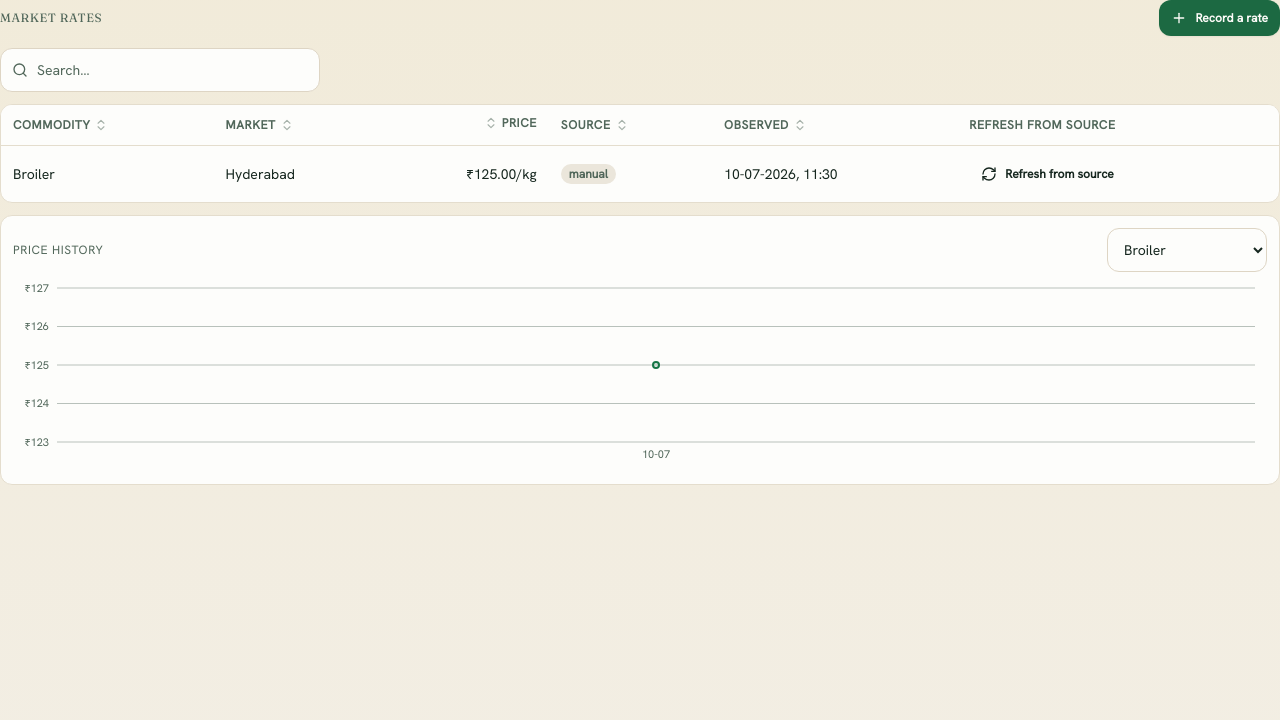
Scenario: MarketPanel › records a manual rate and toasts the price-drop risk from the response
Click the button "Record a rate".
click(1220, 18)  # box [1159,0,1279,36]
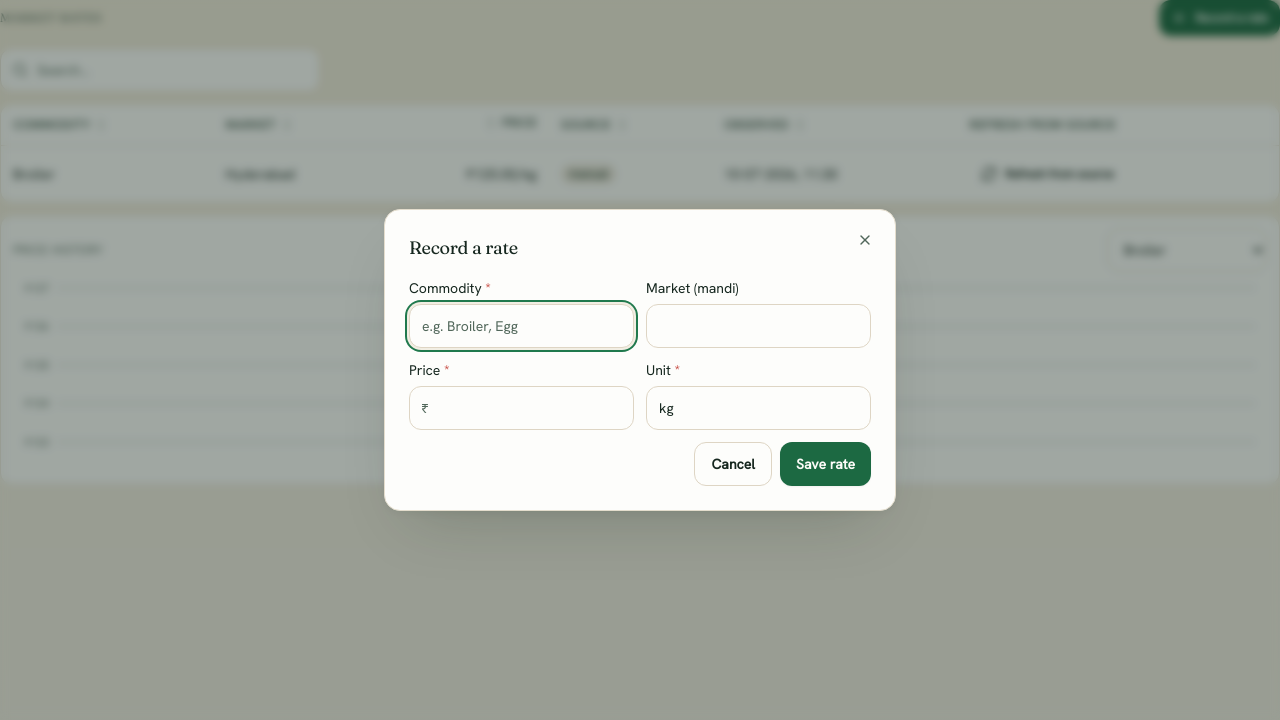
Type "Broiler" into the field labelled "Commodity *".
click(522, 326); type("Broiler")  # box [409,304,634,348]
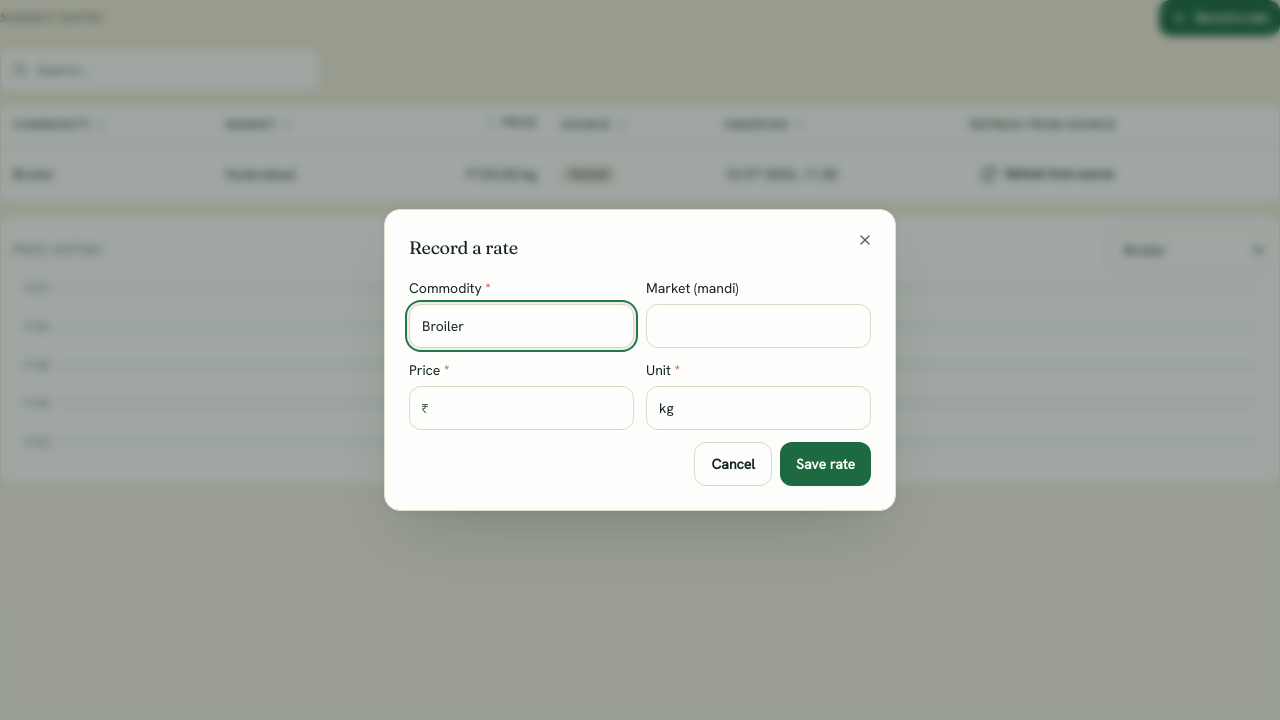
Type "80" into the field labelled "Price *".
click(522, 408); type("80")  # box [409,386,634,430]
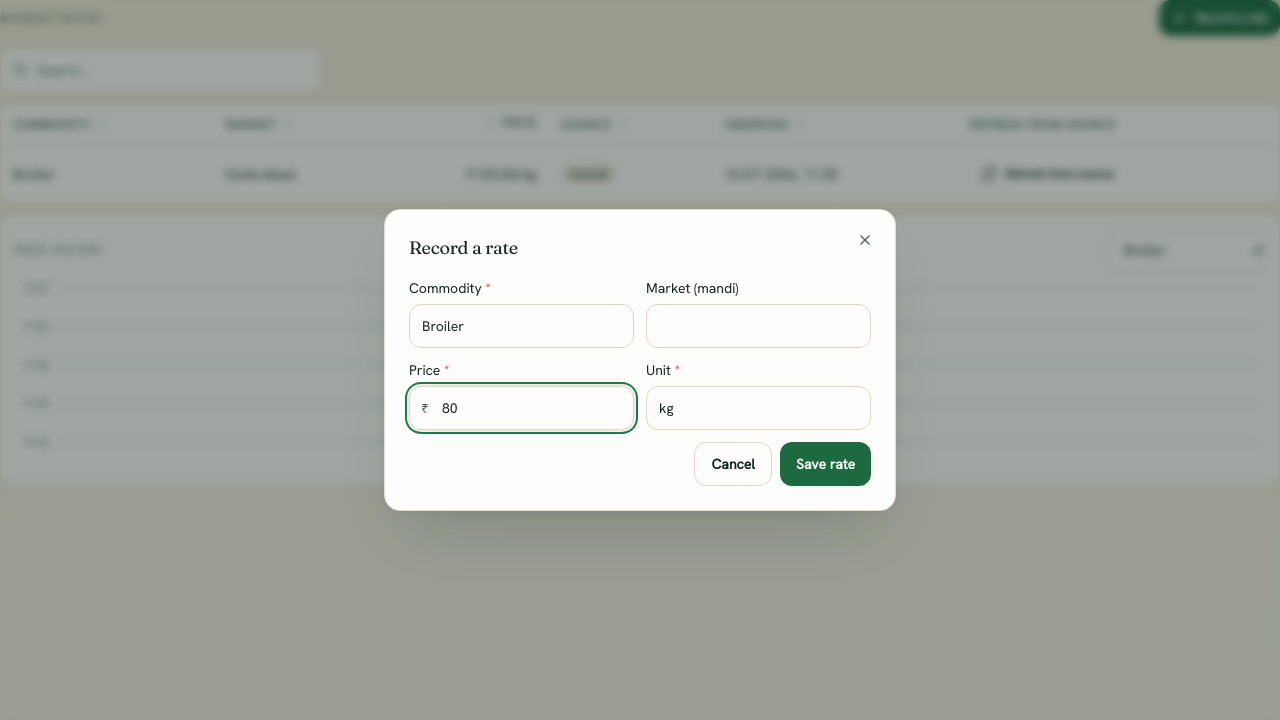
Click the button "Save rate".
click(826, 464)  # box [780,442,871,486]
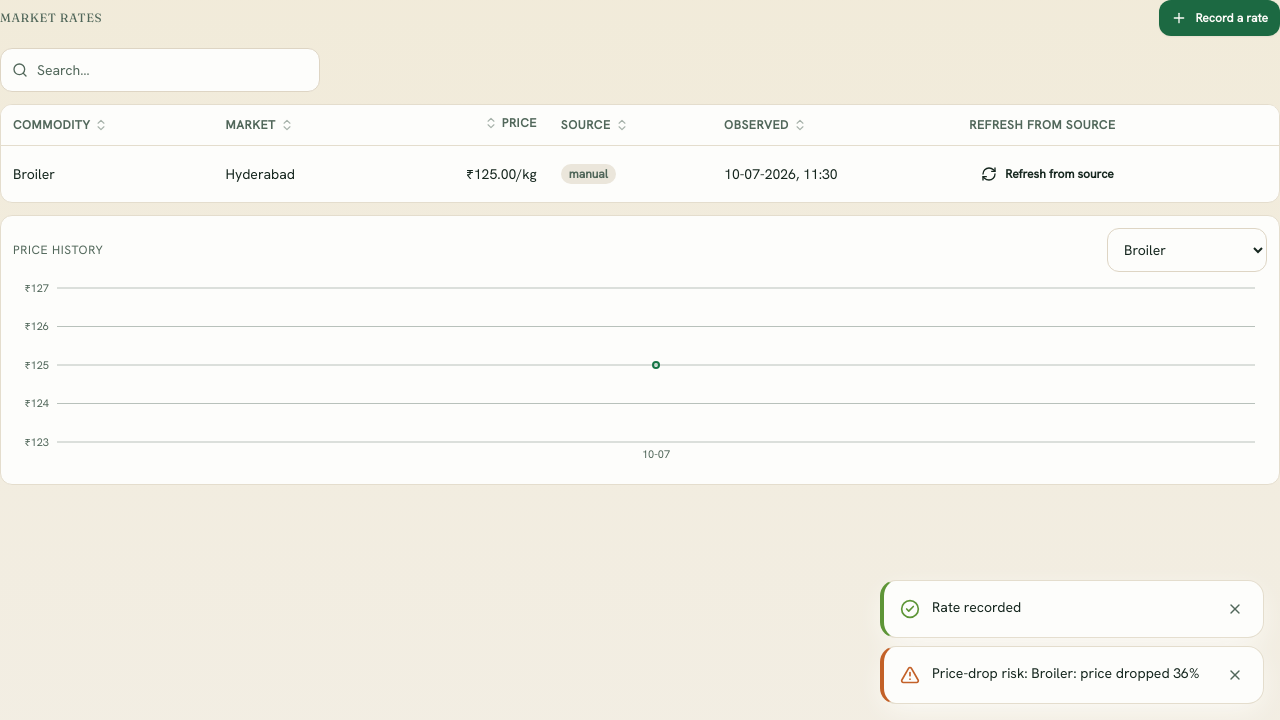
Expected: the text "Rate recorded" is shown, [932,598,1021,616]
Expected: the text "Price-drop risk: Broiler: price dropped 36%" is shown, [932,663,1211,683]
